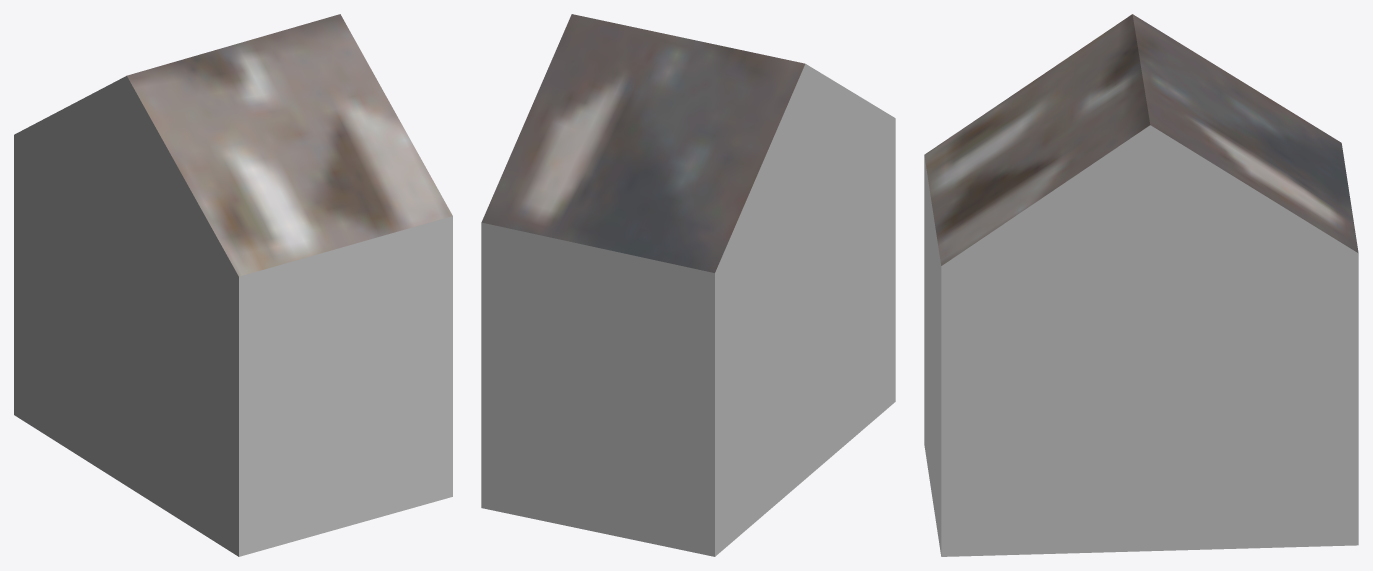
The model's file is DEBW_0010007Txa6.gltf.
3 renders of one model, left to right at view 1: azimuth 30°, elevation 25°; view 2: azimuth 150°, elevation 25°; view 3: azimuth 270°, elevation 25°, orthographic. The views are drawn at different scales.
Visible parts, largest first — view 1: Z_UP; view 2: Z_UP; view 3: Z_UP.
Part boxes in pixels (left/top/right/bottom): Z_UP: left=14, top=14, right=452, bottom=556; Z_UP: left=481, top=14, right=895, bottom=556; Z_UP: left=924, top=14, right=1358, bottom=556.
Bounding box in the file's own units: 6.76 × 10.84 × 10.01.
Materials: 2 (1 with a texture image).
